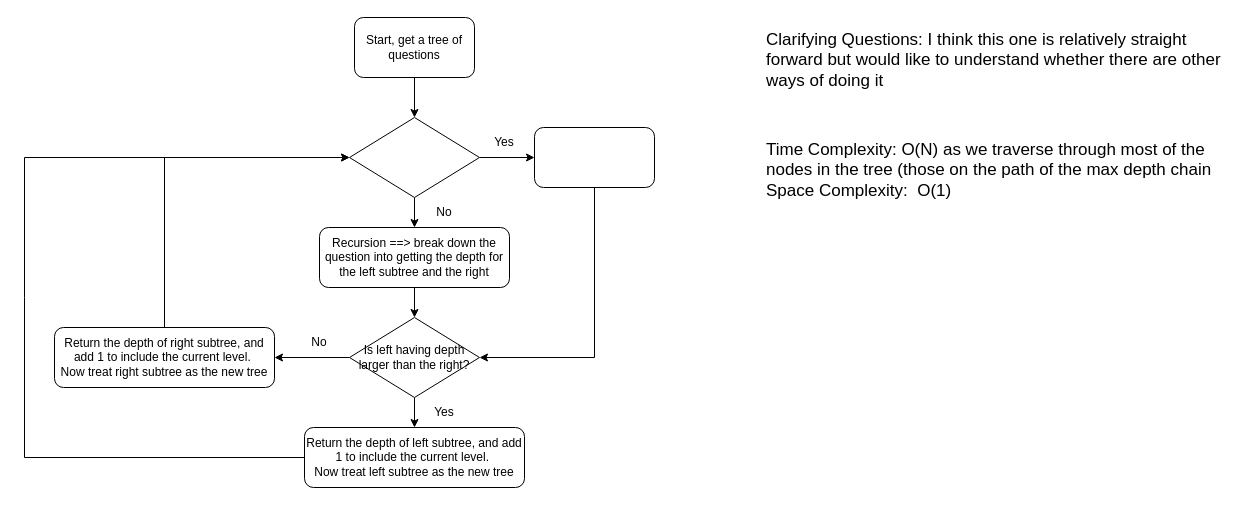
This 1242x505 diagram has some shape labels left out. Each missing label, with the centre of its shape:
Is the tree empty?: pixel 414 157
Return 0, end: pixel 594 157
